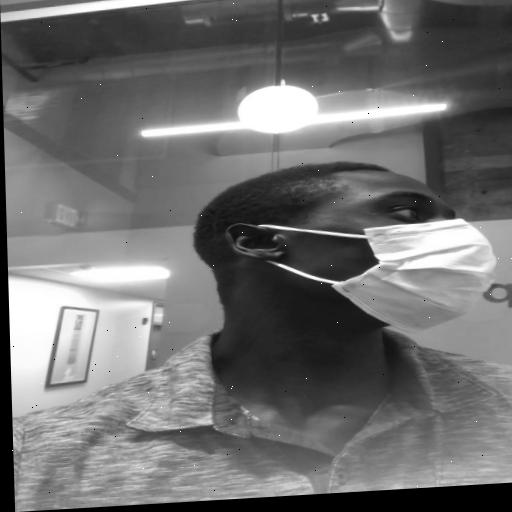mask: (216, 168, 495, 341)
